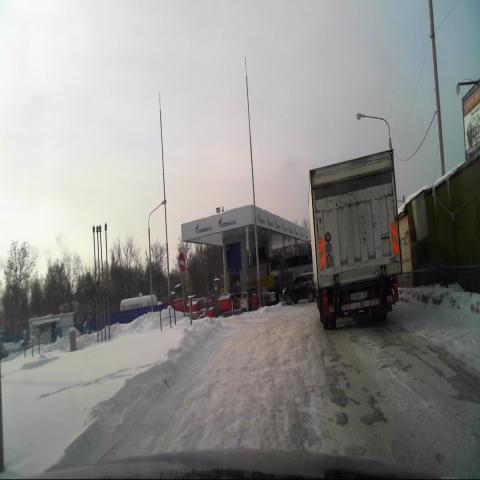3_1: (178, 253, 185, 273)
